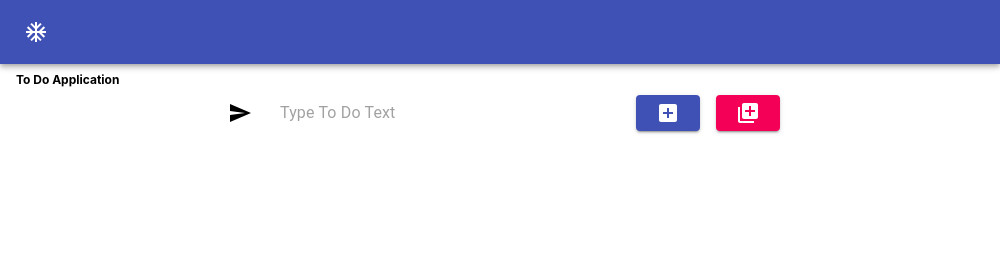
Test: ToDos Tests - Poorly Written › Should allow create of a new to do, and clear text if click add and clear
Type "Test Text" into the element with test id "todo-input" at (436, 113), box [280,97,592,129]
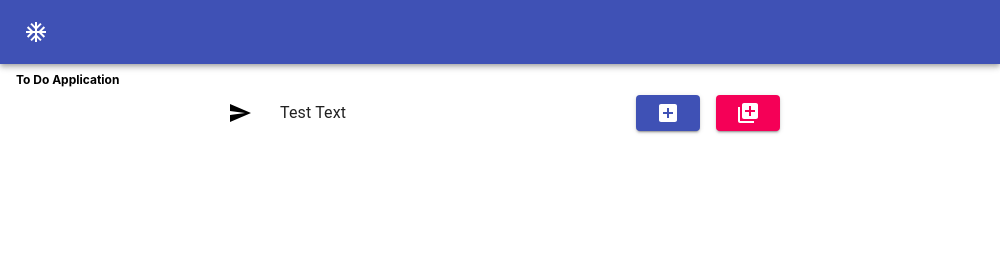
Click the button with test id "todo-addAndClear" at (748, 113), box [716,95,780,131]
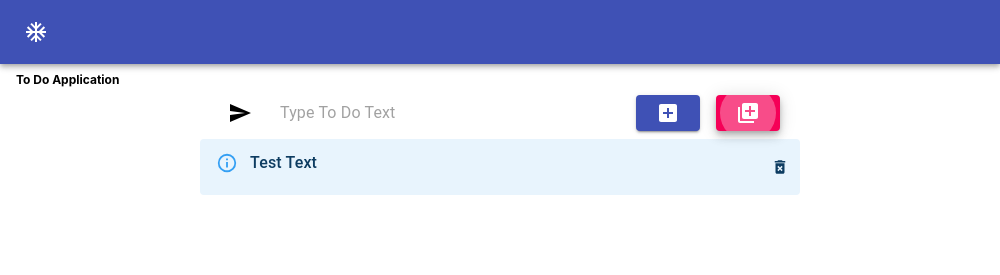
Now the number of elements with test id "todo" is 1, box [200,139,800,195]
Now the text "Test Text" is shown, box [250,151,317,175]
Type " 2" into the element with test id "todo-input" at (436, 113), box [280,97,592,129]
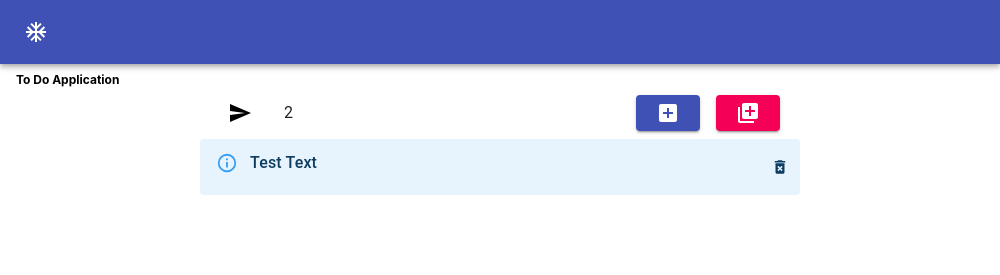
Click the button with test id "todo-add" at (668, 113), box [636,95,700,131]
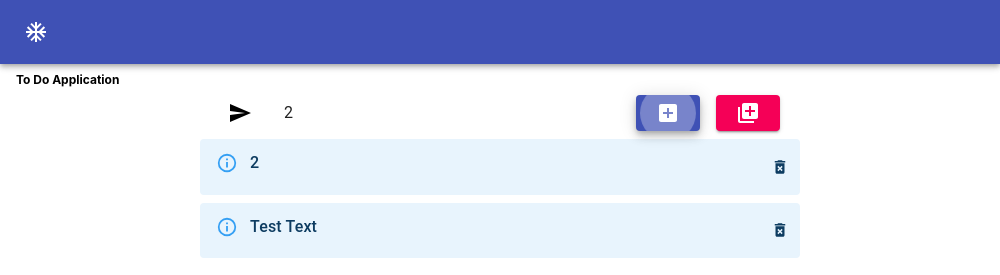
Now the text " 2" is shown, box [250,151,259,175]
